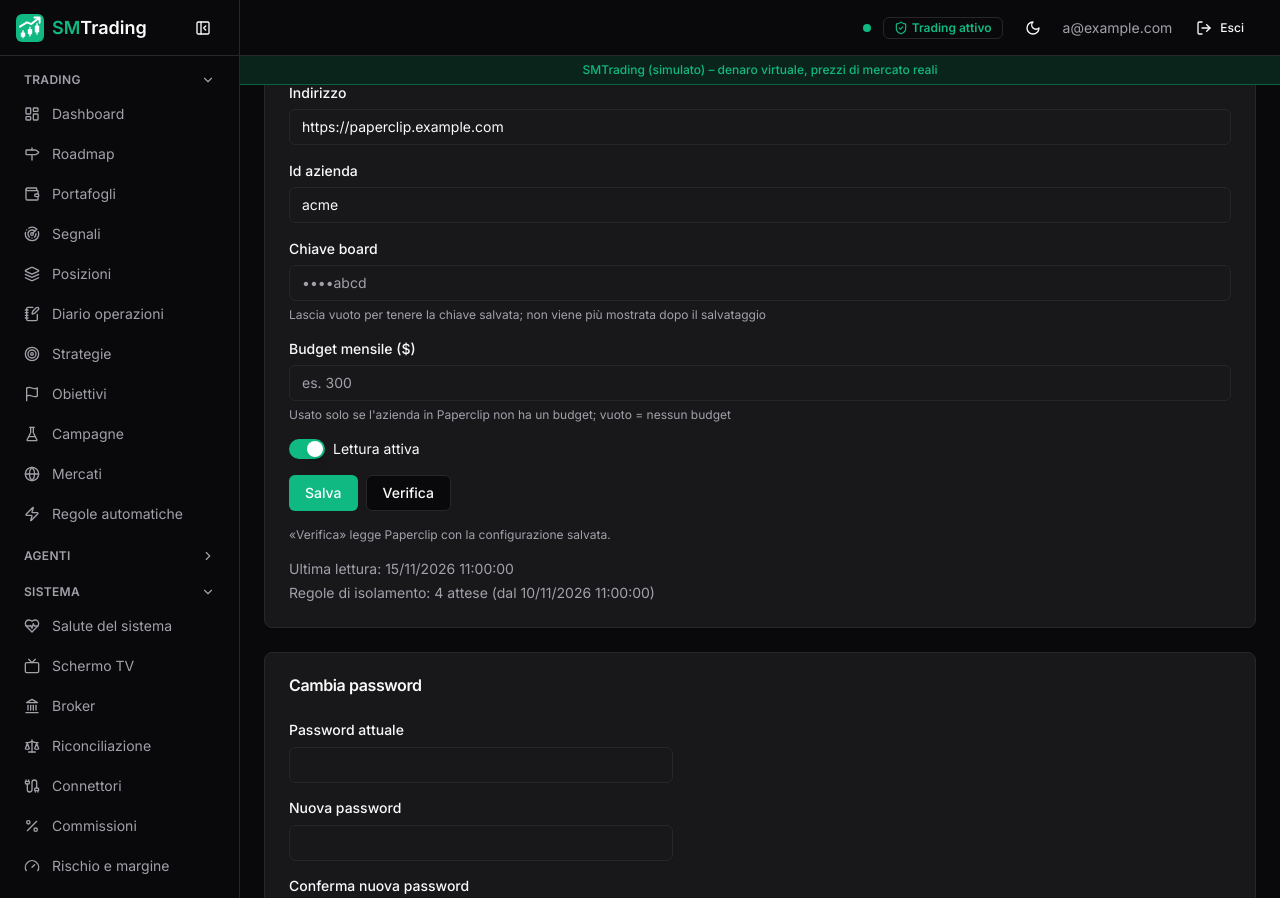
PaperclipSection › verify failure shows the error
(page scrolled)
Click the button "Verifica".
click(408, 492)  # box [366, 474, 451, 510]
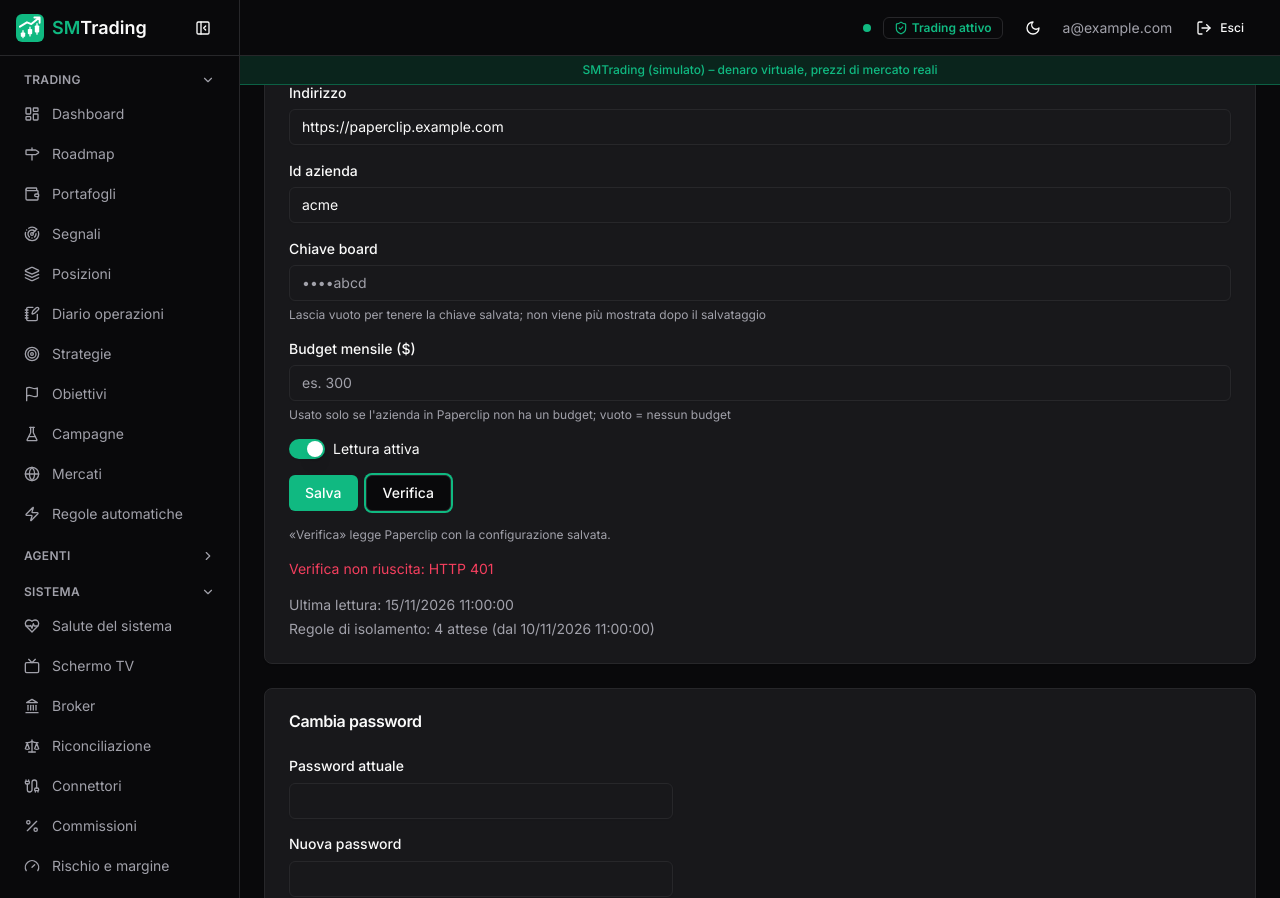
Check: the message "Verifica non riuscita: HTTP 401" is shown, box [289, 560, 494, 576]
